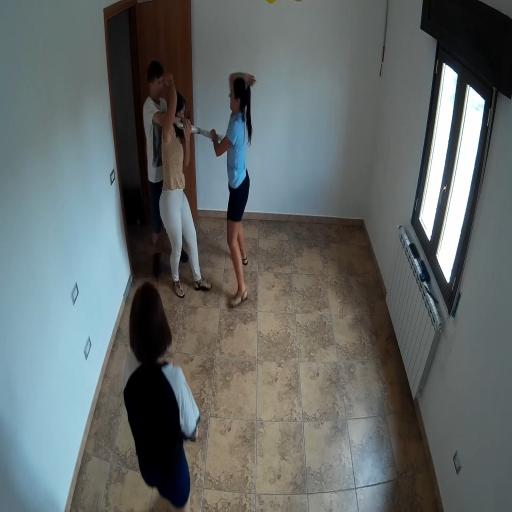violencia: (136, 42, 261, 314)
